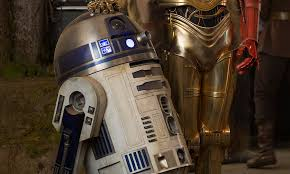r2d2: (52, 9, 196, 173)
